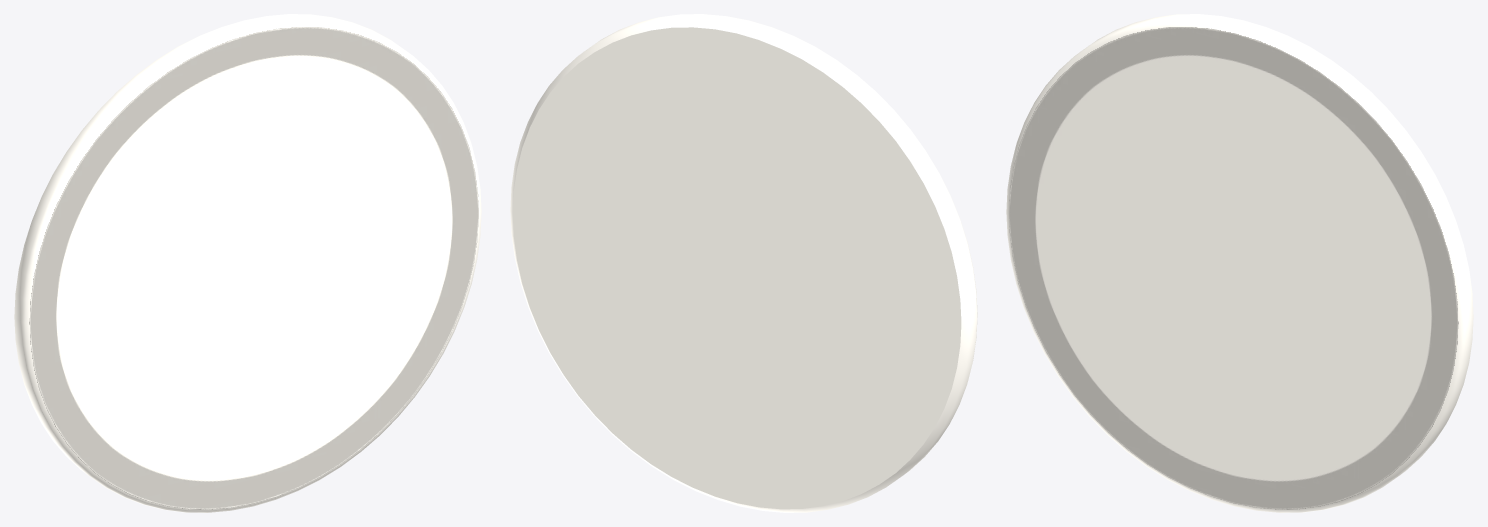
File: s5_intervention_badge.glb
3 views of the same model, side by side, from view 1: azimuth 30°, elevation 25°; view 2: azimuth 150°, elevation 25°; view 3: azimuth 330°, elevation 25° (orthographic).
Visible parts, largest first — view 1: badge; view 2: badge; view 3: badge.
Part boxes in pixels (<box>): badge: <box>14,14,481,512</box>; badge: <box>510,14,977,512</box>; badge: <box>1006,14,1473,512</box>.
Bounding box in the file's own units: 1 × 1 × 0.0501.
1 material, 1 textured.
